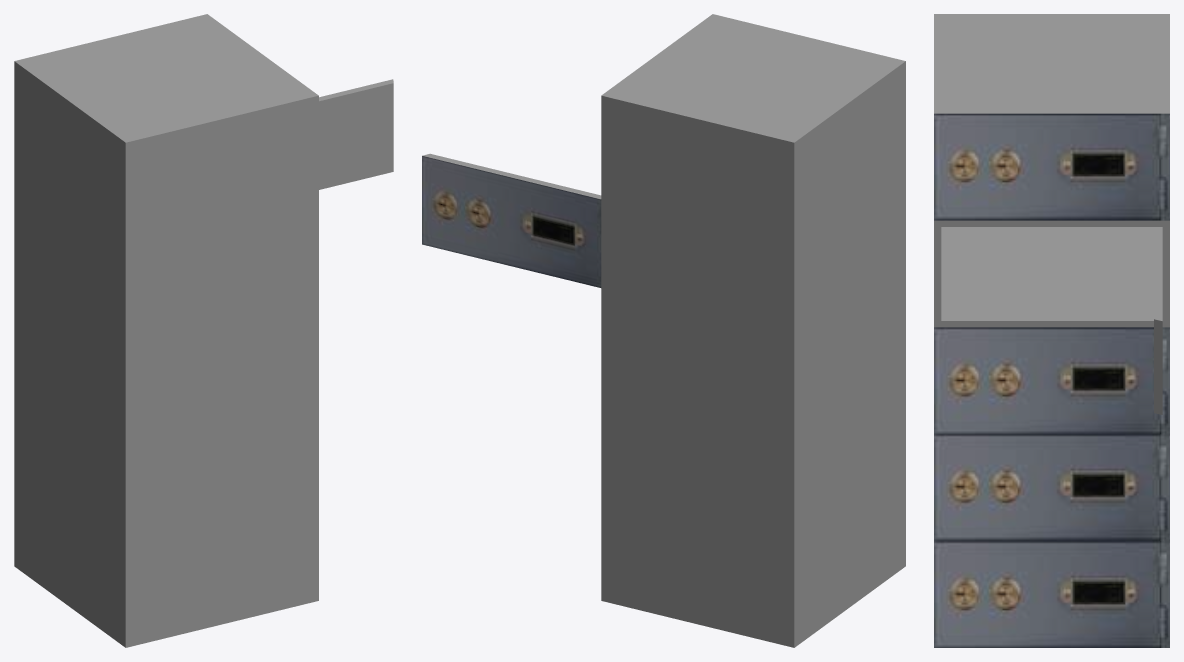
File: deposit box_open.fbx
3 views of the same model, side by side, from view 1: azimuth 30°, elevation 25°; view 2: azimuth 150°, elevation 25°; view 3: azimuth 270°, elevation 25° (orthographic). The views are drawn at different scales.
Parts seen in each view (by area): view 1: deposit box_open; view 2: deposit box_open; view 3: deposit box_open.
Part boxes in pixels (x1=…): deposit box_open: x1=14, y1=14, x2=393, y2=647; deposit box_open: x1=422, y1=14, x2=905, y2=647; deposit box_open: x1=934, y1=14, x2=1169, y2=647.
Bounding box in the file's own units: 77.81 × 100 × 40.
Materials: 2 (1 with a texture image).
